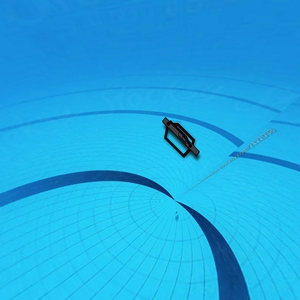submarine: (160, 118, 200, 157)
